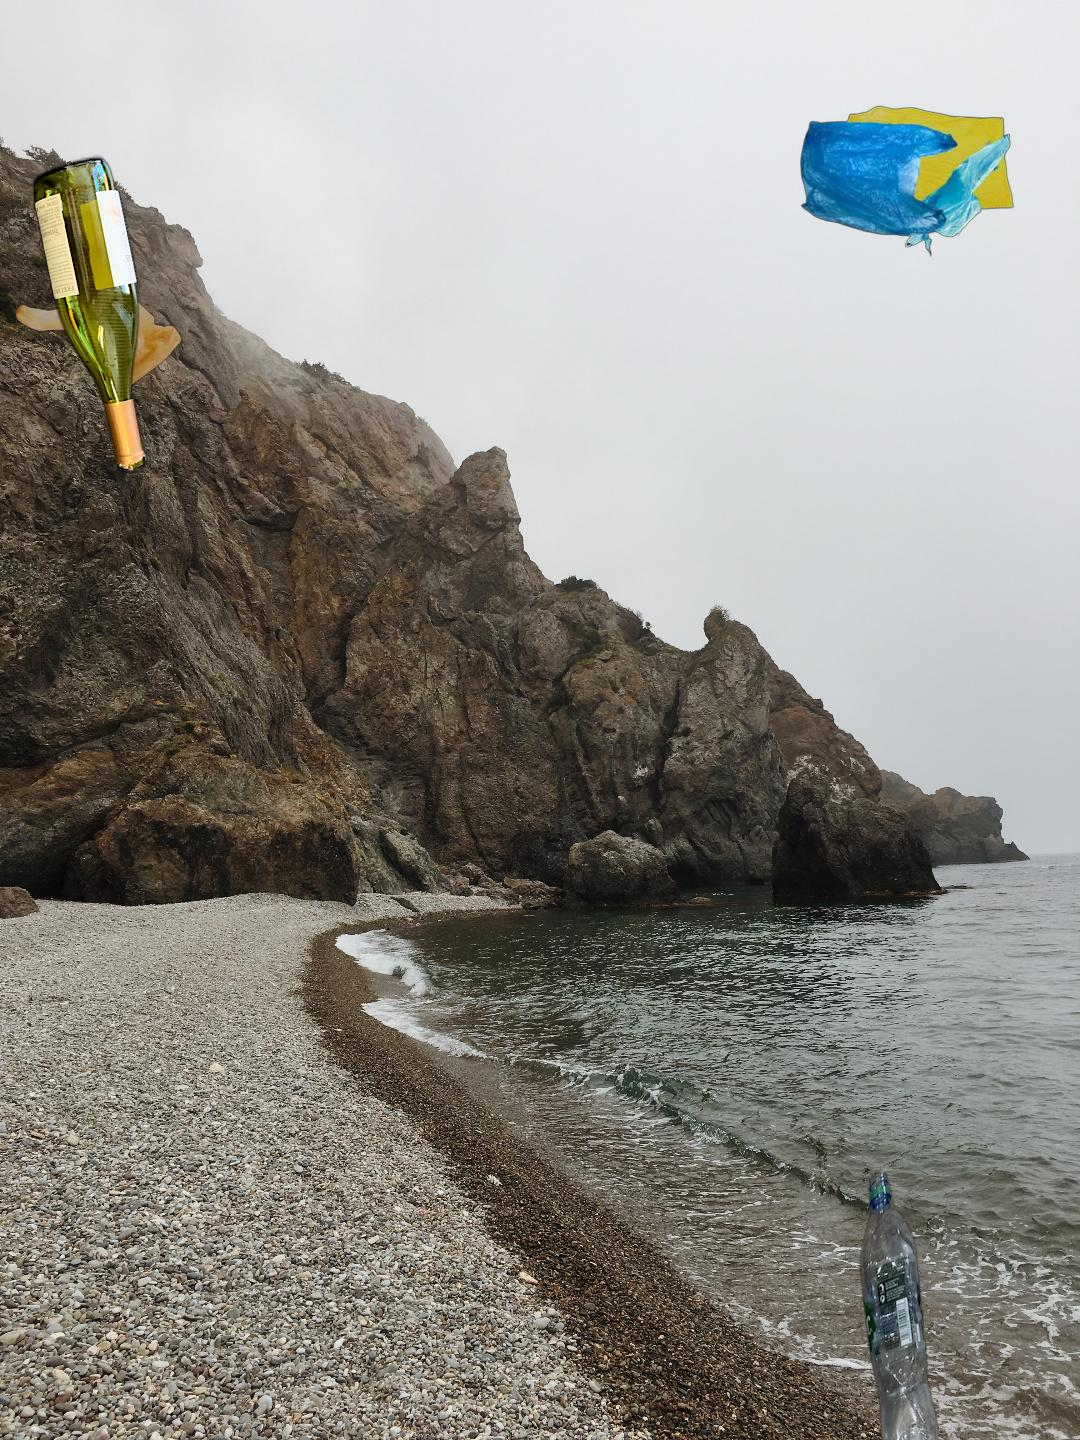glass: (29, 151, 151, 478)
plastic-bag: (798, 103, 1016, 260), (12, 232, 185, 388)
plastic-bottles: (710, 1172, 950, 1440)
